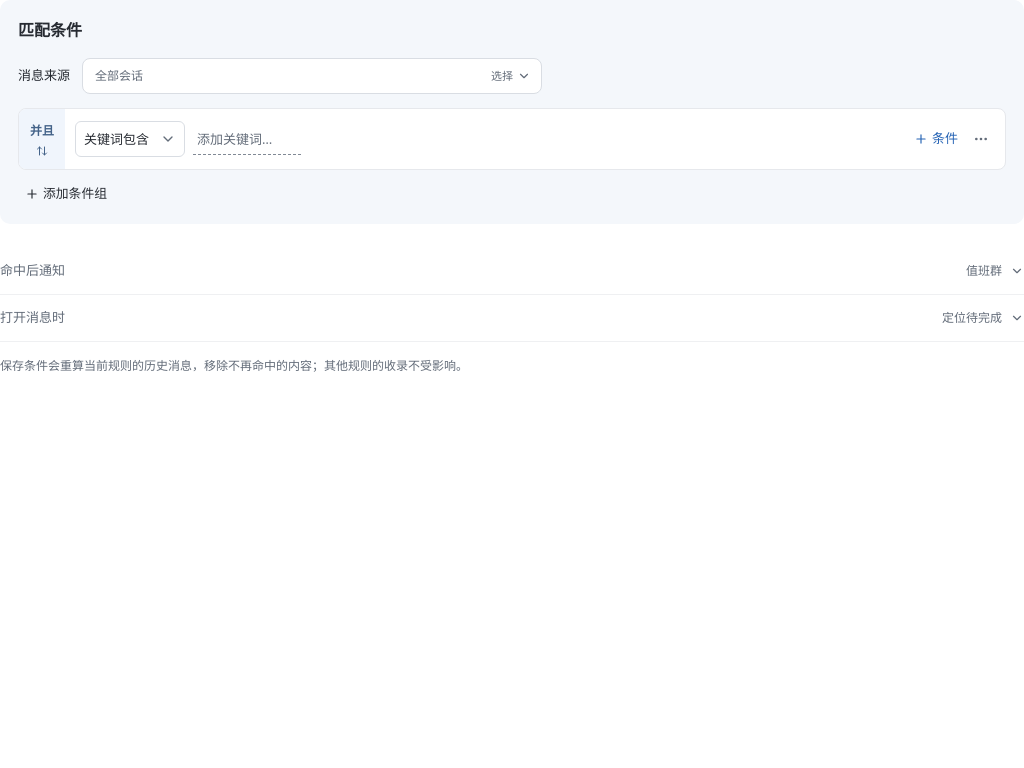
Test: FilterForm › shows an empty chat scope as all chats and keeps the primary scope row
Expected: the button "全部会话 选择" is shown, [82,58,542,94]
Click the dropdown named "消息内容匹配方式".
click(130, 139)  # box [75,121,185,157]
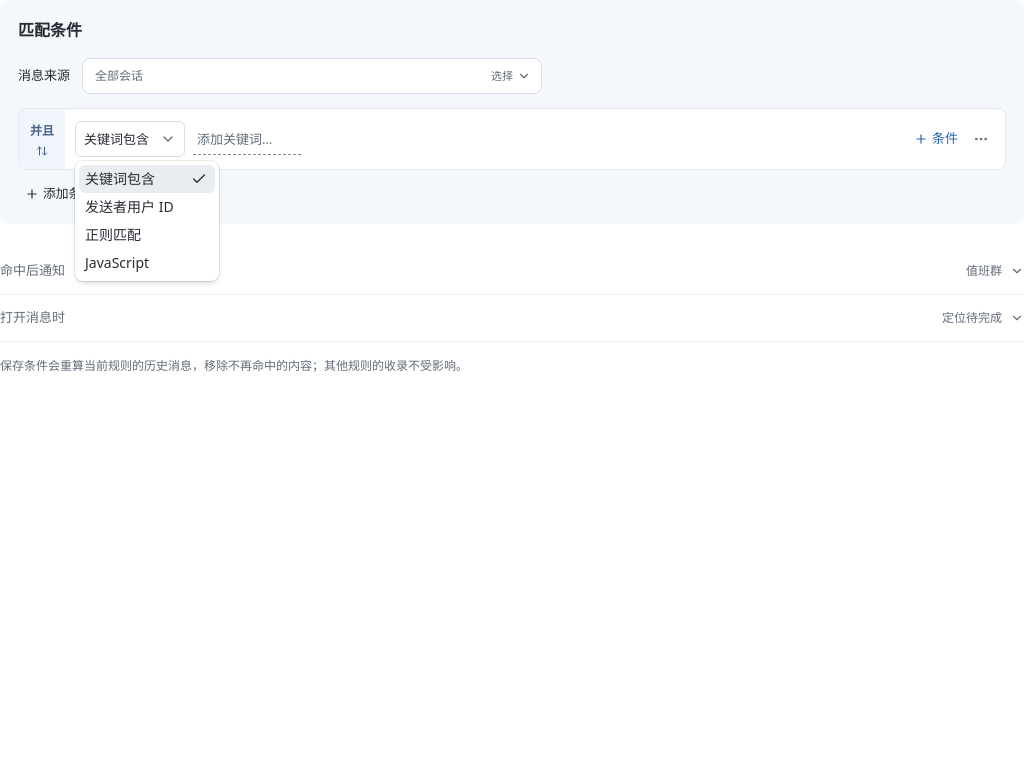
Expected: the option "关键词包含" is shown, [79,165,215,193]
Expected: the option "正则匹配" is shown, [85,225,141,244]
Expected: the option "JavaScript" is shown, [85,253,149,272]
Press Escape
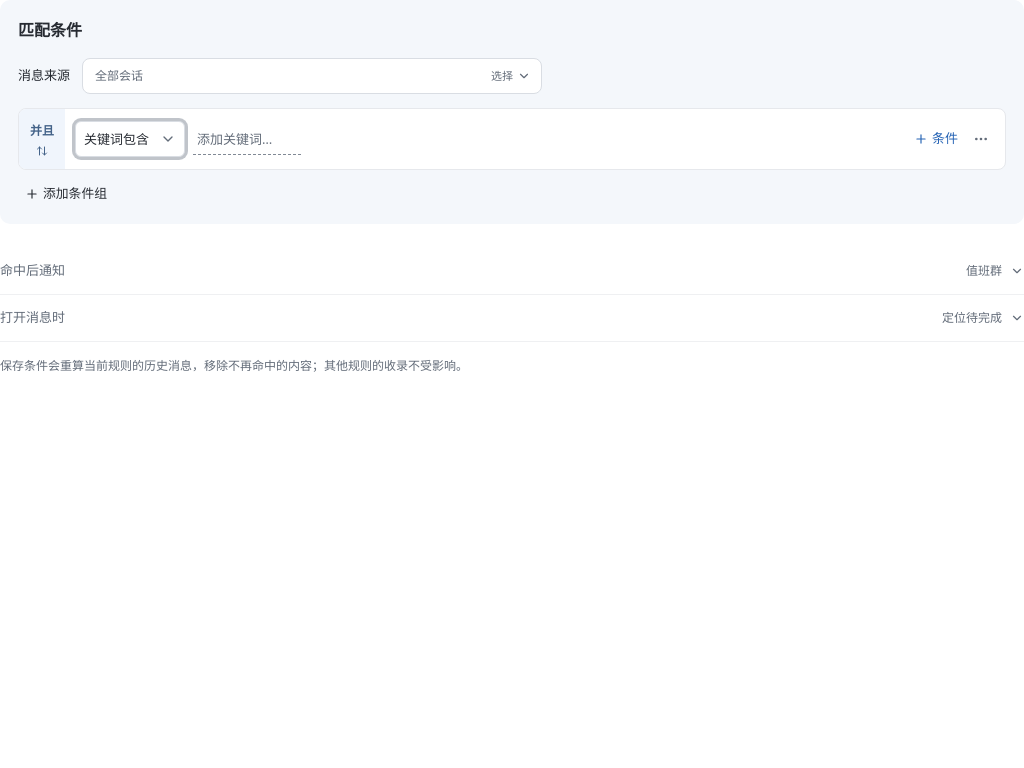
Click the button "全部会话 选择".
click(119, 76)  # box [82,58,542,94]
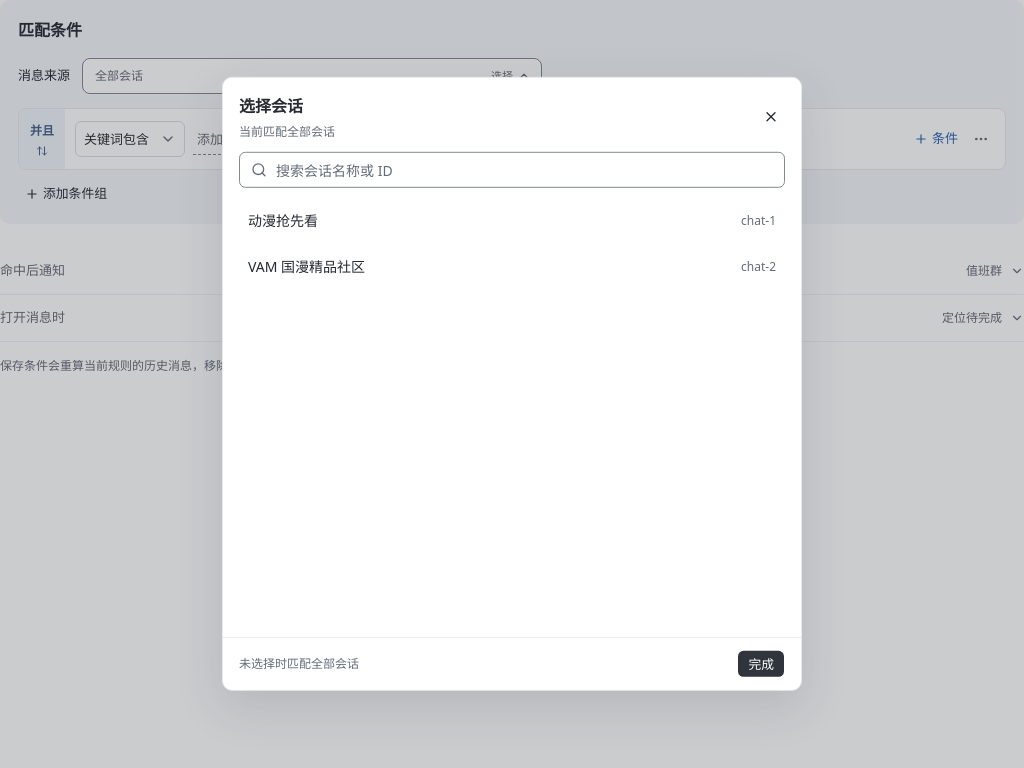
Expected: the dialog "选择会话" is shown, [222,77,802,691]
Expected: the text "当前匹配全部会话" is shown, [239,123,335,140]
Type "动漫" into the search field labelled "搜索会话".
click(512, 170); type("动漫")  # box [239,152,785,188]
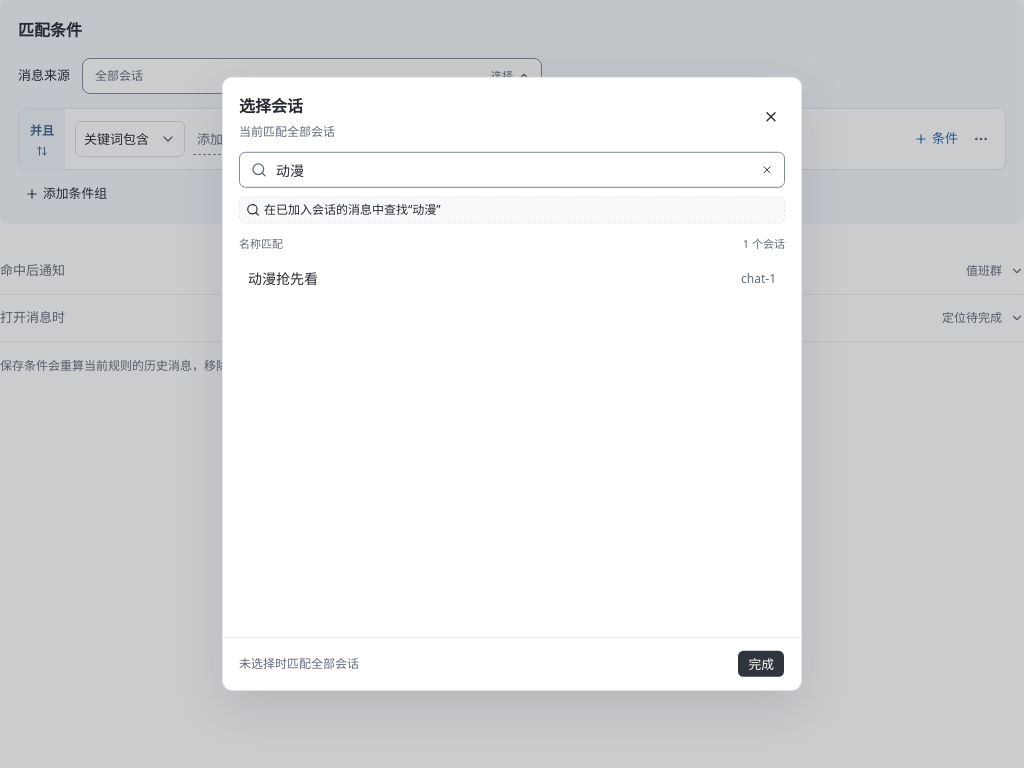
Expected: the button "动漫抢先看 chat-1" is shown, [235,258,789,300]
Expected: the button "VAM 国漫精品社区 chat-2" is gone
Expected: the button "在已加入会话的消息中查找“动漫”" is shown, [239,196,785,224]
